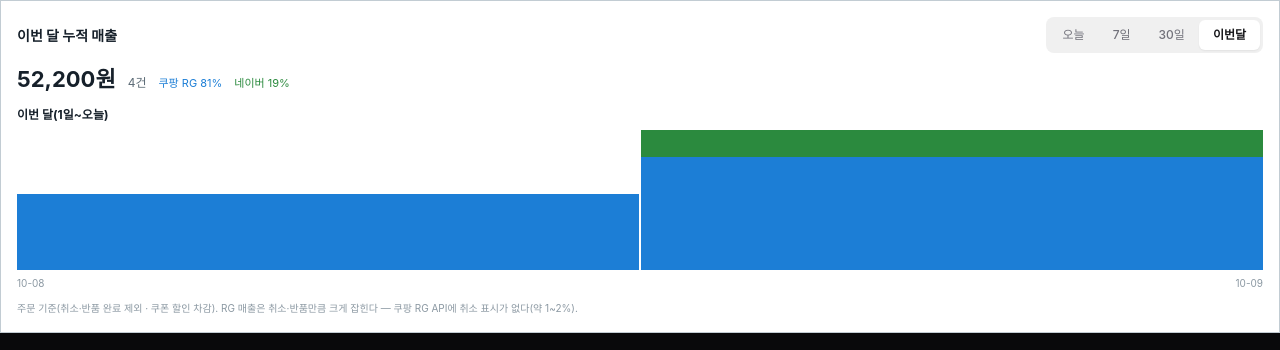
Test case: RevenueTrend › 이번달은 누적 — 막대가 그날까지의 합계이고 툴팁에 누적·그날 매출이 함께 뜬다
Expected: the heading "이번 달 누적 매출" is shown, top-left (17, 24), bottom-right (117, 46)
Expected: the picture named "10-08 누적 매출 28,200원" is shown, top-left (17, 194), bottom-right (639, 270)
Hover over the picture named "10-09 누적 매출 52,200원" at (952, 200), box top-left (641, 130), bottom-right (1263, 270)
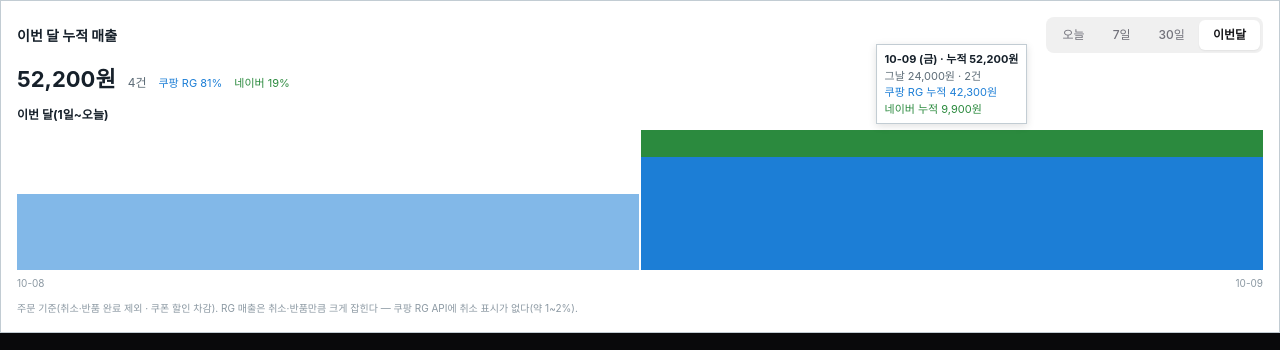
Expected: the tooltip shows "10-09 (금) · 누적 52,200원", top-left (884, 52), bottom-right (1018, 66)
Expected: the tooltip shows "그날 24,000원 · 2건", top-left (884, 68), bottom-right (981, 82)
Expected: the tooltip shows "쿠팡 RG 누적 42,300원", top-left (884, 85), bottom-right (997, 99)
